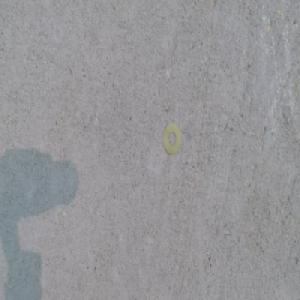Washer: (161, 121, 182, 155)
